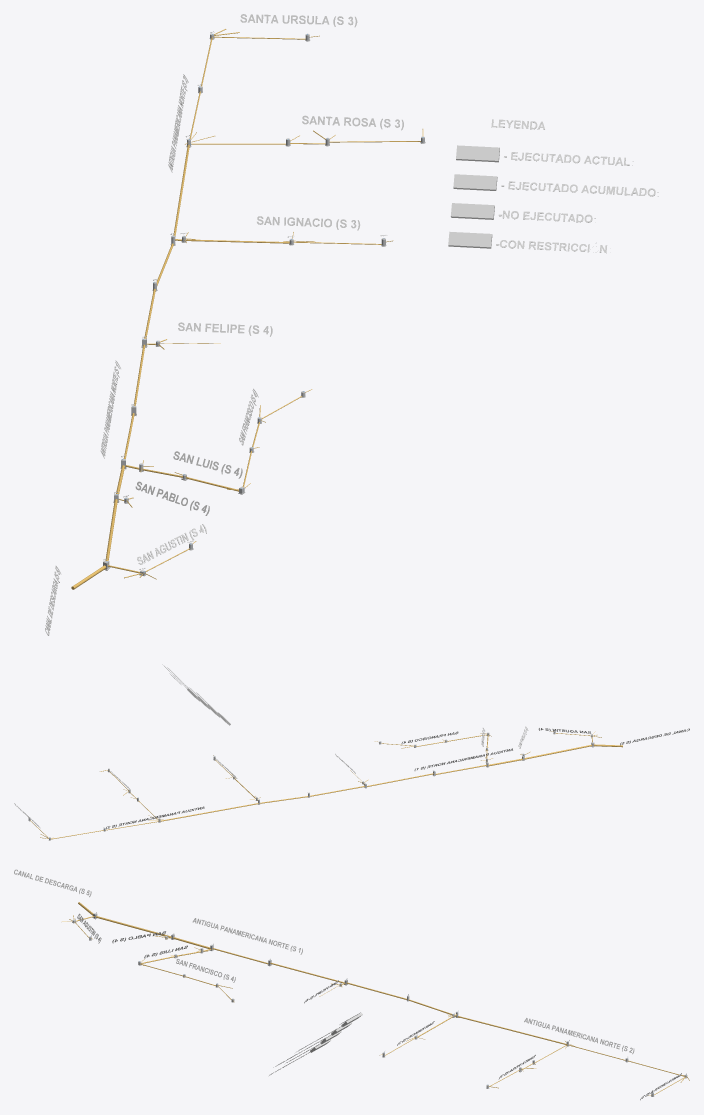
Rendered from 500125-CSSP001-780-XX-DR-HD-011264@011268.glb.
3 views of the same model, one above another, from view 1: azimuth 30°, elevation 25°; view 2: azimuth 150°, elevation 25°; view 3: azimuth 270°, elevation 25° (orthographic). The views are drawn at different scales.
Visible parts, largest first — view 1: 500125-CSSP001-780-XX-DR-HD-011264@011268#OTR034; view 2: no part large enough to name; view 3: 500125-CSSP001-780-XX-DR-HD-011264@011268#OTR034, 500125-CSSP001-780-XX-DR-HD-011264@011268#OTR008, 500125-CSSP001-780-XX-DR-HD-011264@011268#OTR038.
Boxes of the visible parts, bbox=[...] form: 500125-CSSP001-780-XX-DR-HD-011264@011268#OTR034: bbox=[448, 145, 658, 253]; 500125-CSSP001-780-XX-DR-HD-011264@011268#OTR034: bbox=[269, 1013, 362, 1075]; 500125-CSSP001-780-XX-DR-HD-011264@011268#OTR008: bbox=[524, 1018, 634, 1054]; 500125-CSSP001-780-XX-DR-HD-011264@011268#OTR038: bbox=[192, 918, 302, 954].
Size of the model in its own units: 469 by 75.61 by 548.
